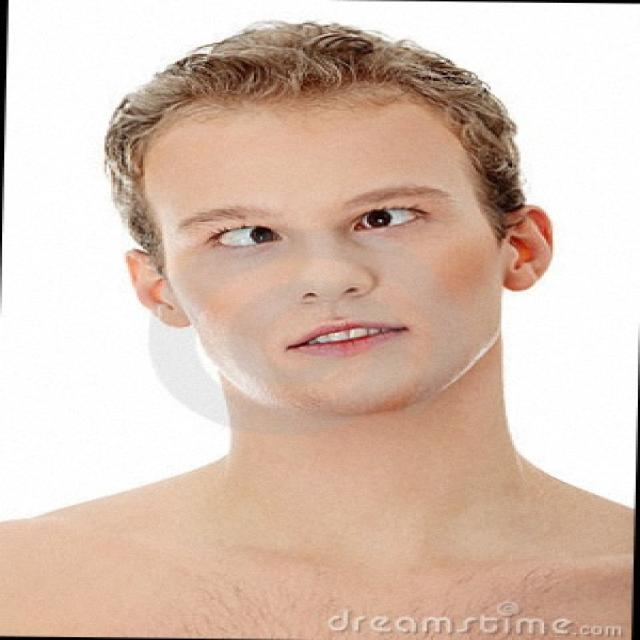Squint: (339, 188, 429, 245), (182, 222, 287, 254)
